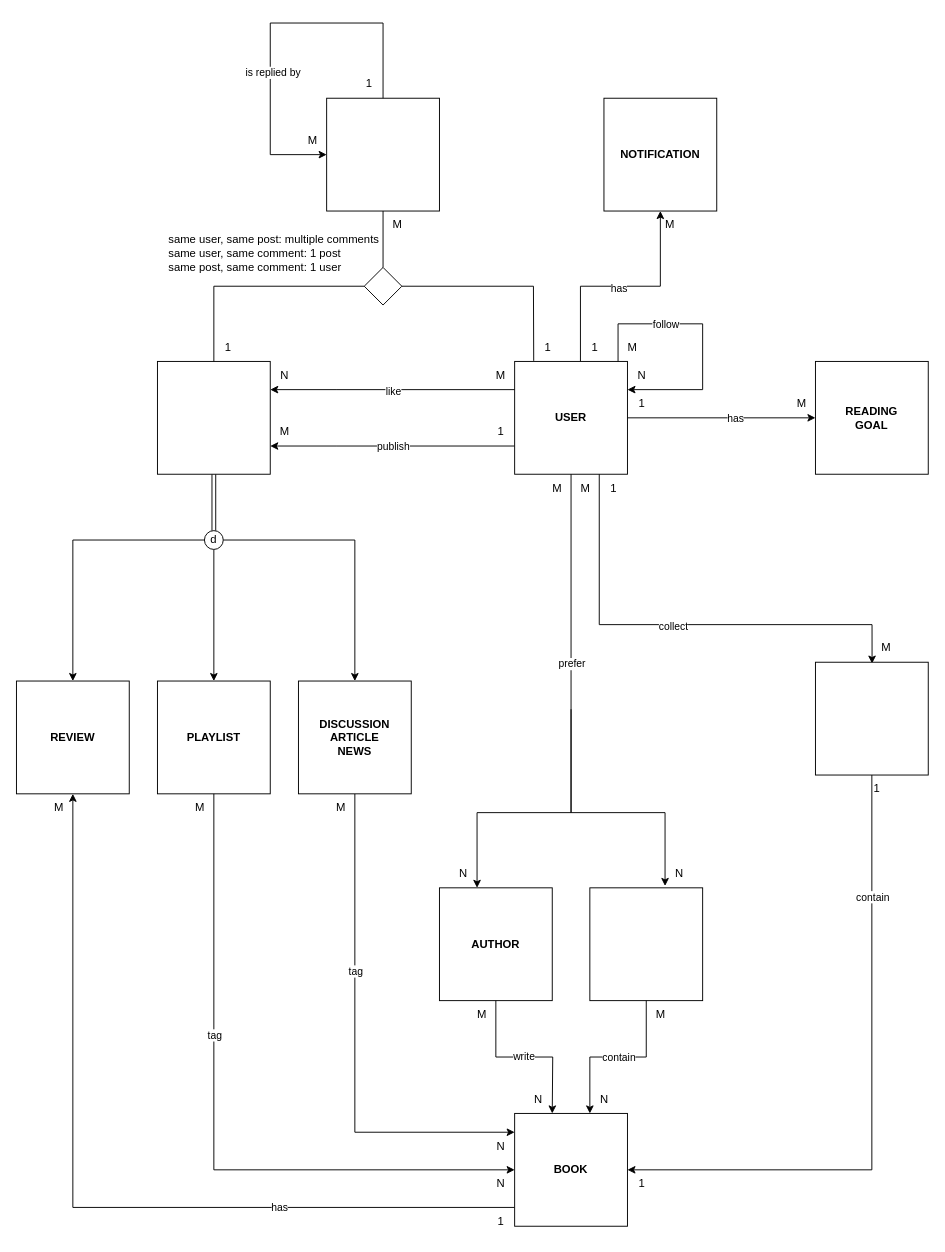
Some shapes in this 945 by 1252 pixel diagram are drawn without their labels. Here are the shapes that lost their labels. From the top down, the centre of each, then its label:
At [382,154]: "COMMENT".
At [213,417]: "POST".
At [871,718]: "BOOK WITH STATUS".
At [646,944]: "GENRE".
